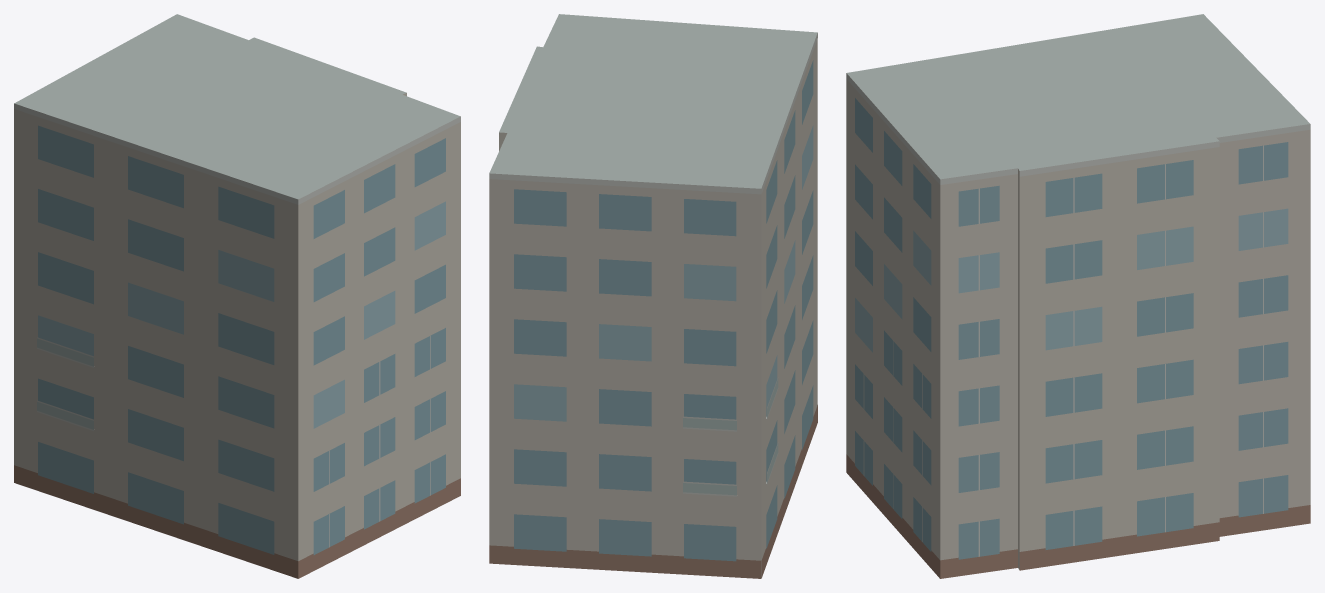
Rendered from survey-upis-32946410.glb.
The picture shows the model from 3 angles, left to right: view 1: azimuth 30°, elevation 25°; view 2: azimuth 150°, elevation 25°; view 3: azimuth 270°, elevation 25°; orthographic projection. The views are drawn at different scales.
Visible parts, largest first — view 1: survey-upis-32946410.tmp; view 2: survey-upis-32946410.tmp; view 3: survey-upis-32946410.tmp.
Part boxes in pixels (<box>): survey-upis-32946410.tmp: <box>14,14,460,578</box>; survey-upis-32946410.tmp: <box>489,14,817,578</box>; survey-upis-32946410.tmp: <box>846,14,1310,578</box>.
Size of the model in its own units: 15.1 by 17 by 17.91.
